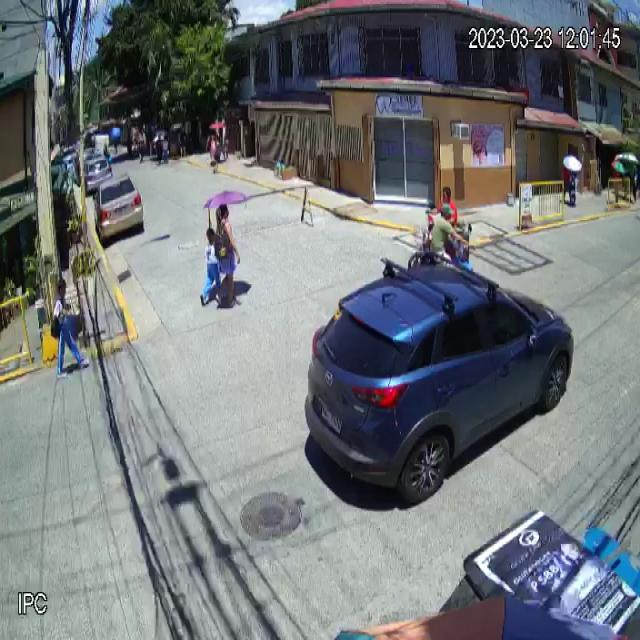Car: (302, 264, 575, 505), (94, 172, 144, 241)
